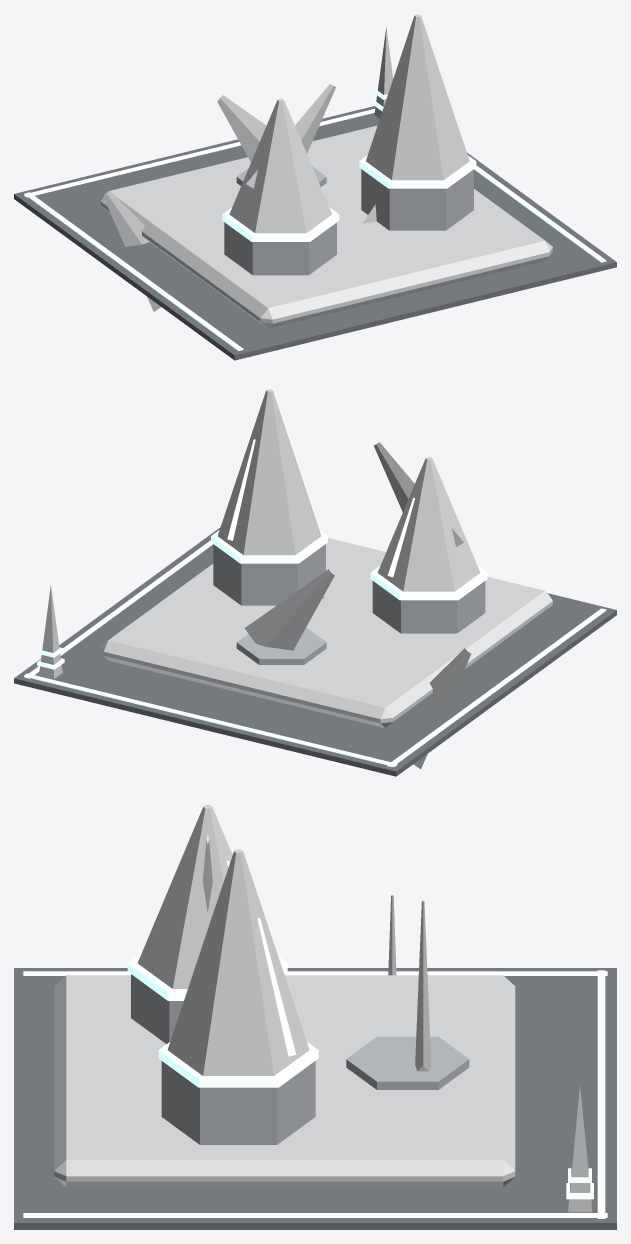
The model's file is zone_low_1_t2.glb.
The picture shows the model from 3 angles, top to bottom: view 1: azimuth 30°, elevation 25°; view 2: azimuth 150°, elevation 25°; view 3: azimuth 270°, elevation 25°; orthographic projection. The views are drawn at different scales.
Parts seen in each view (by area): view 1: zone_low_1_t2, detail; view 2: zone_low_1_t2, detail; view 3: zone_low_1_t2, detail.
Boxes of the visible parts, x1,y1,x2,y2 form: zone_low_1_t2: (14,14,616,360); detail: (24,27,606,350); zone_low_1_t2: (14,389,616,776); detail: (24,540,606,767); zone_low_1_t2: (14,805,616,1229); detail: (23,970,607,1218).
Bounding box in the file's own units: 19.6 × 14.07 × 19.6.
